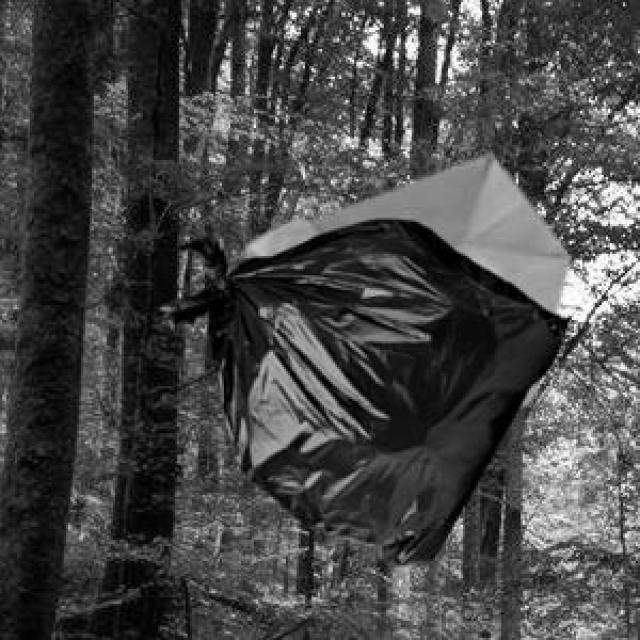miscellaneous trash: (152, 216, 565, 563)
paper: (241, 152, 565, 401)
